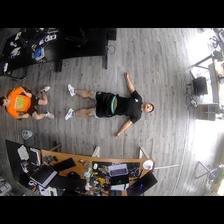fall: (65, 72, 155, 137)
normal: (1, 85, 56, 122)
